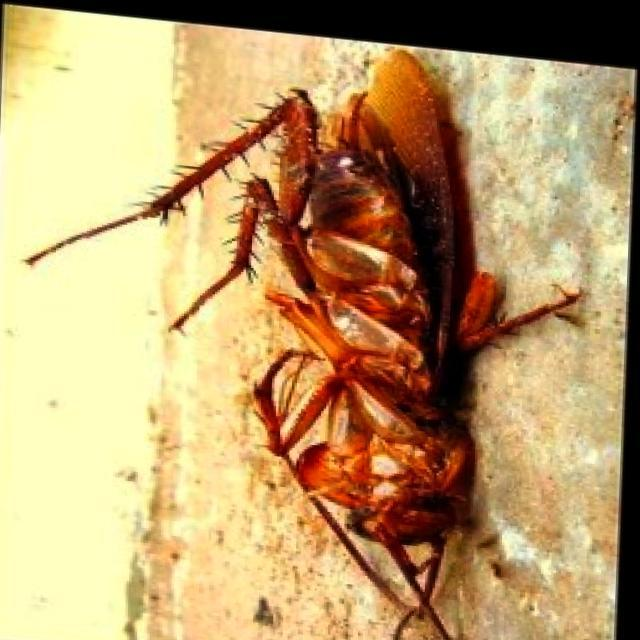cockroach: (21, 46, 589, 638)
